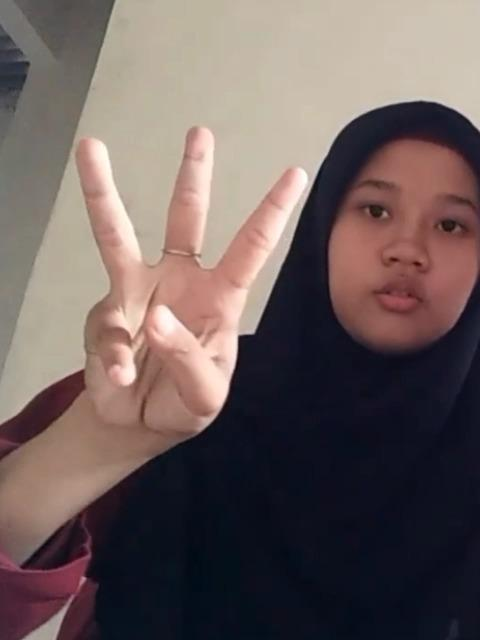W: (72, 123, 308, 443)
